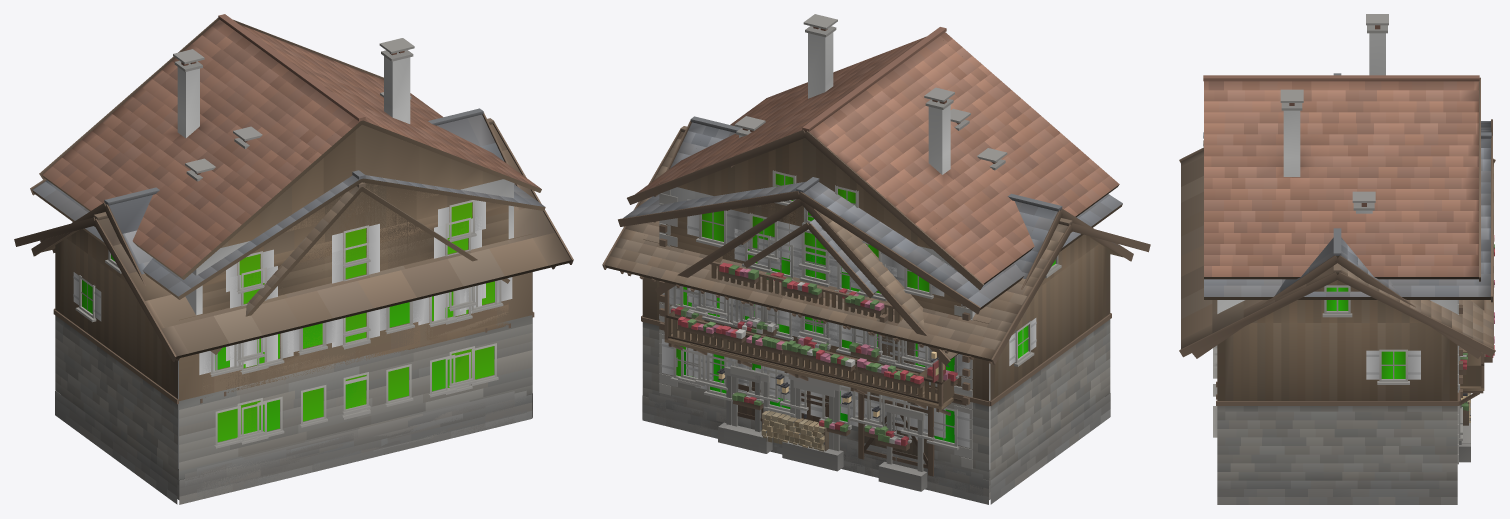
File: houses.glb
3 views of the same model, side by side, from view 1: azimuth 30°, elevation 25°; view 2: azimuth 150°, elevation 25°; view 3: azimuth 270°, elevation 25° (orthographic). The views are drawn at different scales.
Visible parts, largest first — view 1: house_barn, house_inn, house_chalet, house_farm, house_cottage; view 2: house_inn, house_barn, house_chalet, house_farm, house_cottage; view 3: house_barn, house_inn, house_chalet, house_farm, house_cottage.
Part boxes in pixels (box(x1,y1,x2,y2)): house_barn: box(14, 118, 573, 504); house_inn: box(39, 14, 541, 499); house_chalet: box(30, 126, 545, 498); house_farm: box(31, 92, 555, 502); house_cottage: box(210, 182, 509, 492); house_inn: box(627, 14, 1119, 500); house_barn: box(602, 126, 1150, 504); house_chalet: box(618, 108, 1122, 499); house_farm: box(620, 116, 1133, 503); house_cottage: box(655, 199, 958, 488); house_barn: box(1179, 147, 1495, 504); house_inn: box(1203, 14, 1480, 464); house_chalet: box(1203, 119, 1494, 404); house_farm: box(1192, 73, 1482, 440); house_cottage: box(1203, 140, 1486, 443).
Bounding box in the file's own units: 16.93 × 14.98 × 11.85.
